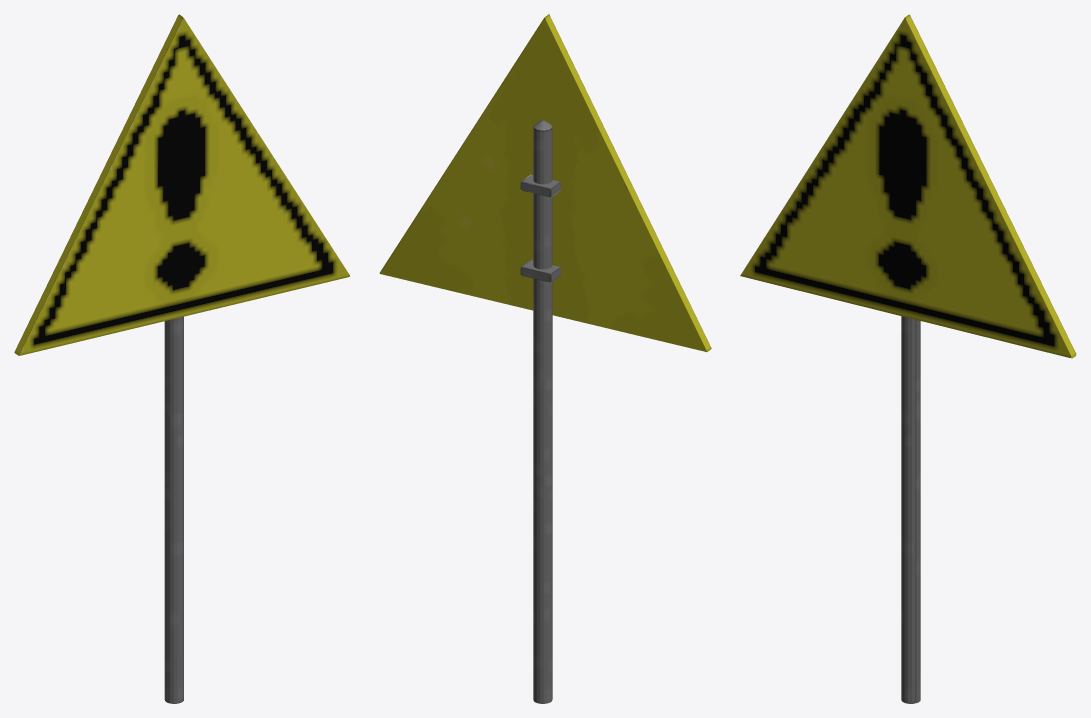
The model's file is warningSign.fbx.
The picture shows the model from 3 angles, left to right: view 1: azimuth 30°, elevation 25°; view 2: azimuth 150°, elevation 25°; view 3: azimuth 330°, elevation 25°; orthographic projection.
Visible parts, largest first — view 1: sign, pillar; view 2: sign, pillar, backHolder2, backHolder1; view 3: sign, pillar.
Part boxes in pixels (box(x1,y1,x2,y2)): sign: box(14, 14, 349, 355); pillar: box(164, 316, 183, 703); sign: box(379, 14, 711, 351); pillar: box(533, 120, 552, 703); backHolder2: box(520, 259, 560, 282); backHolder1: box(520, 174, 560, 197); sign: box(740, 14, 1076, 358); pillar: box(901, 316, 920, 703).
Bounding box in the file's own units: 101 × 200 × 7.81.
1 material, 1 textured.
